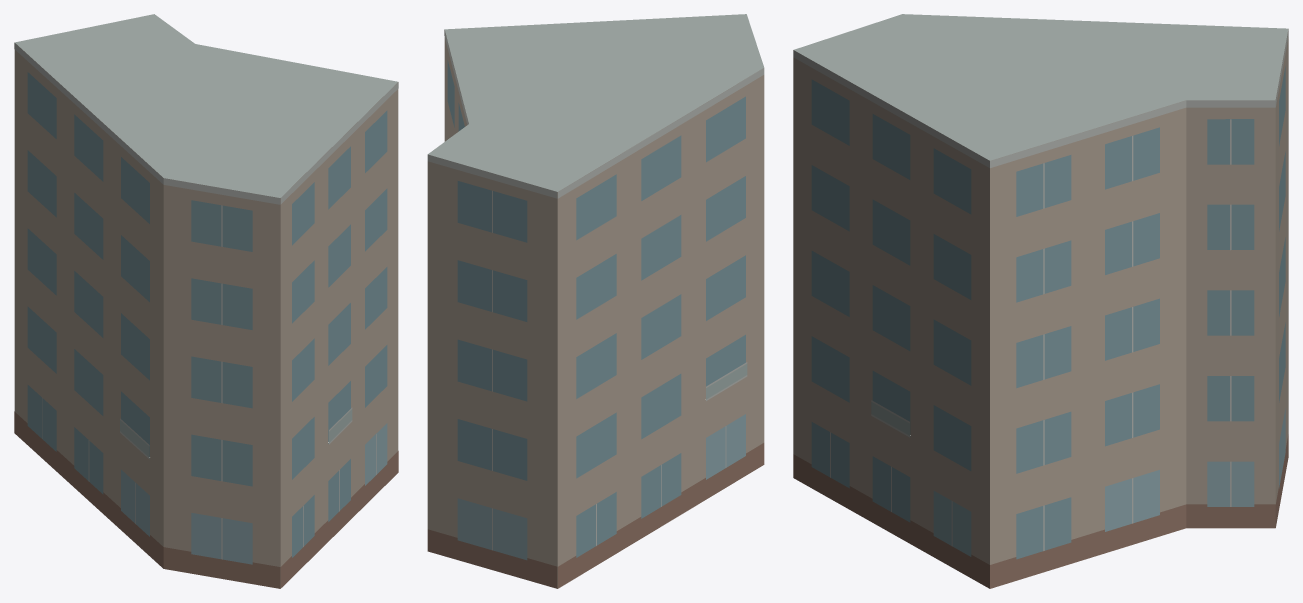
The model's file is survey-upis-33015774.glb.
3 views of the same model, side by side, from view 1: azimuth 30°, elevation 25°; view 2: azimuth 150°, elevation 25°; view 3: azimuth 270°, elevation 25° (orthographic). The views are drawn at different scales.
Visible parts, largest first — view 1: survey-upis-33015774.tmp; view 2: survey-upis-33015774.tmp; view 3: survey-upis-33015774.tmp.
Part boxes in pixels (x1,y1,x2,y2): survey-upis-33015774.tmp: (14,14,398,588); survey-upis-33015774.tmp: (427,14,764,588); survey-upis-33015774.tmp: (793,14,1288,588).
Size of the model in its own units: 10.38 by 14.1 by 14.79.
